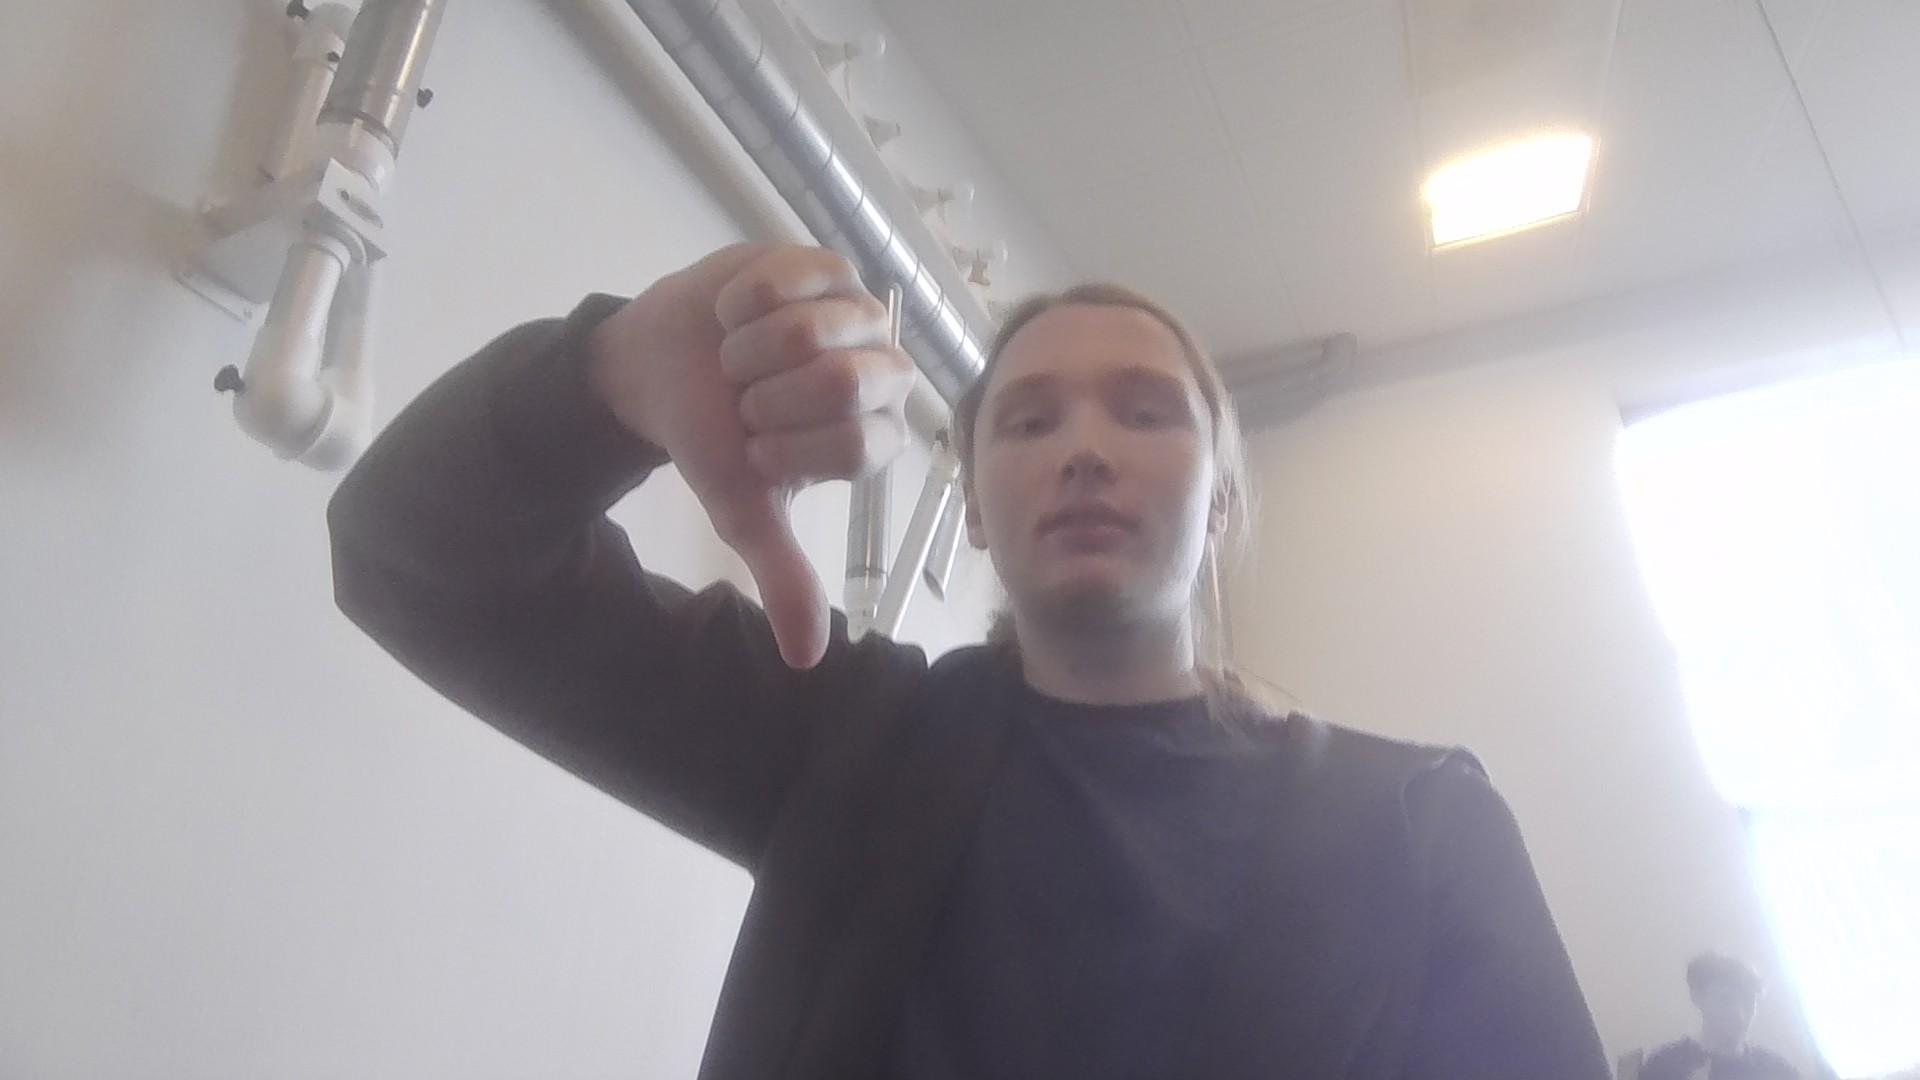thumbs down: (640, 241, 905, 673)
